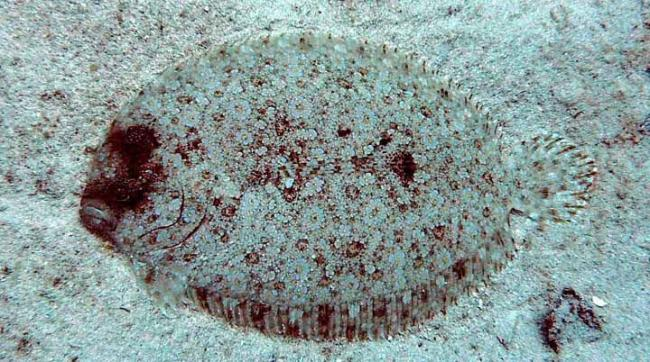fish: (79, 33, 596, 345)
